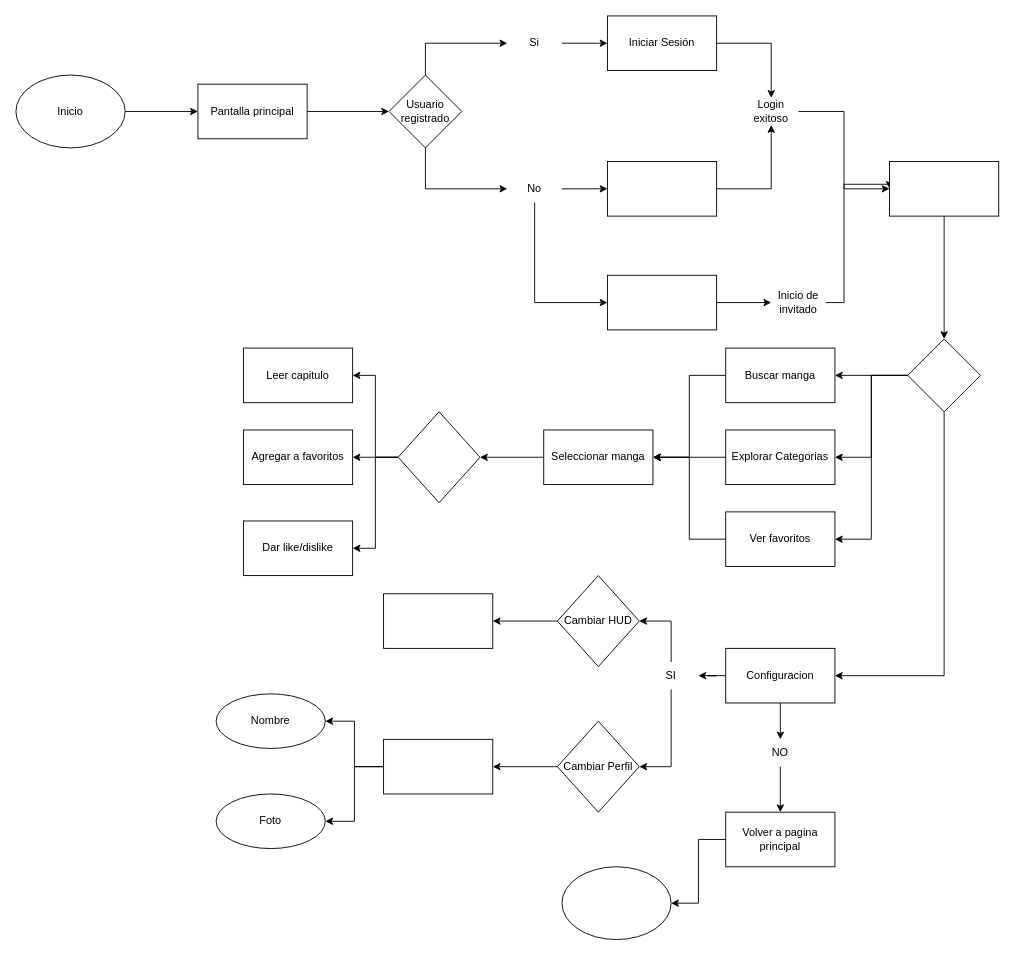
This 1015x956 diagram has some shape labels left out. Here are the shapes that lost their labels. From the top down, the box of each, then its label:
(607, 161, 717, 216): Registrarse
(889, 161, 999, 216): Biblioteca de mangas
(607, 274, 717, 330): Continuar como invitado
(907, 338, 981, 412): Acción de usuario
(397, 411, 480, 503): Opciones dentro del manga
(383, 593, 493, 648): Cambiar colores de interfaz
(383, 738, 493, 794): Modificar Perfil
(561, 866, 671, 940): Fin flujo/cerrar aplicacion
